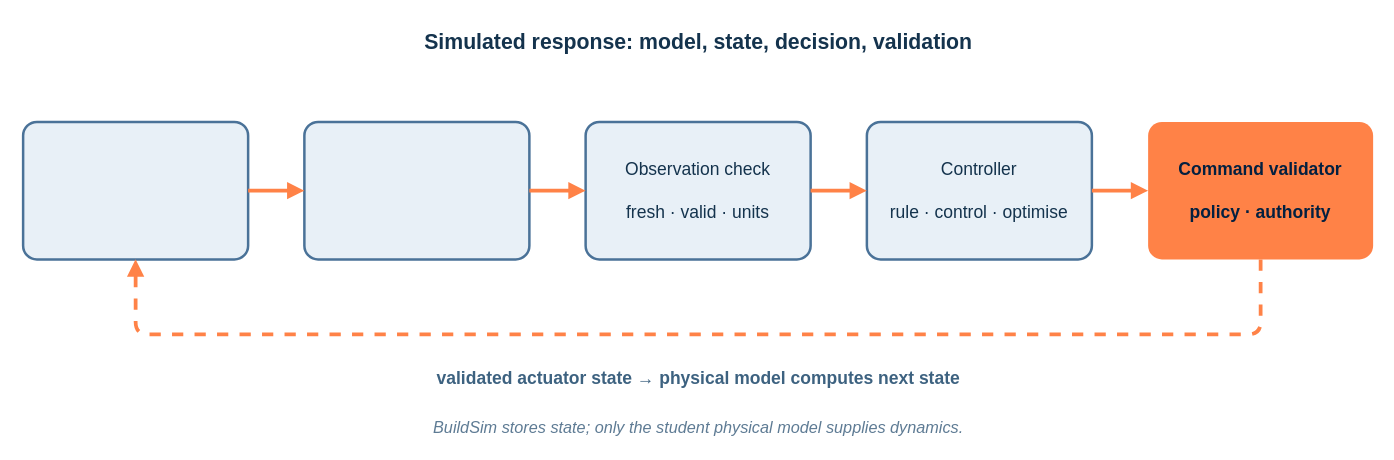
This 1394x460 diagram has some shape labels left out. Each missing label, with the centre of its shape:
"BuildSim store + display state" goes at pixel 416 190.
"Physical model compute sensors" goes at pixel 135 190.
